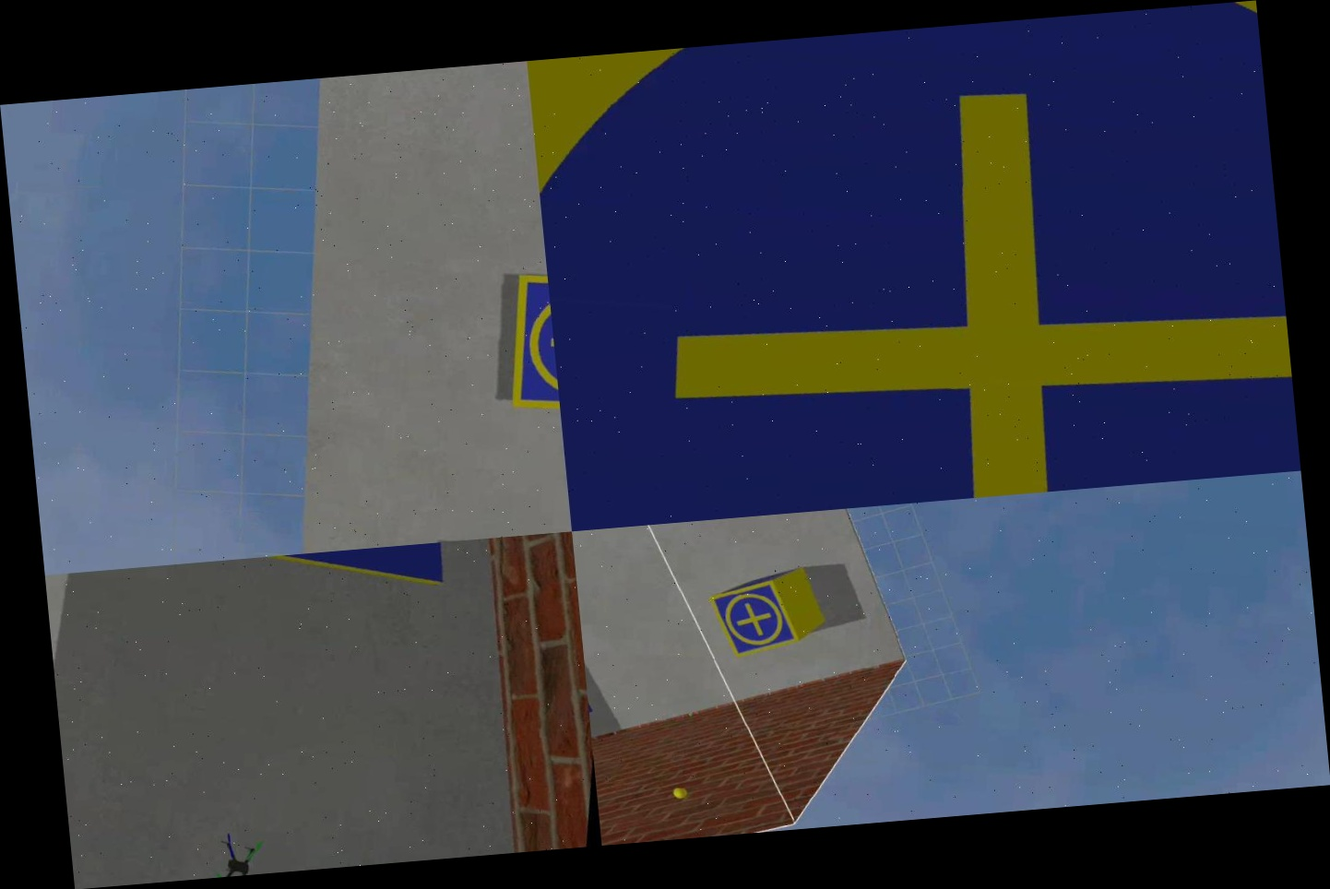large_base: (527, 0, 1300, 531)
small_base: (700, 569, 811, 668), (496, 270, 562, 432)
